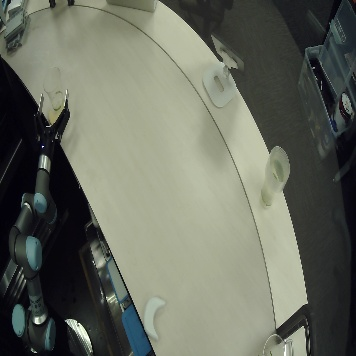empty_cup: (259, 144, 291, 208), (42, 67, 66, 112), (259, 329, 292, 356)
puck: (142, 295, 167, 340), (48, 108, 63, 126)
